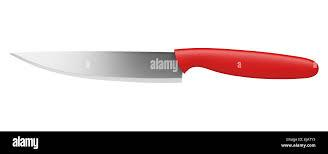Knife: (9, 47, 319, 82)
